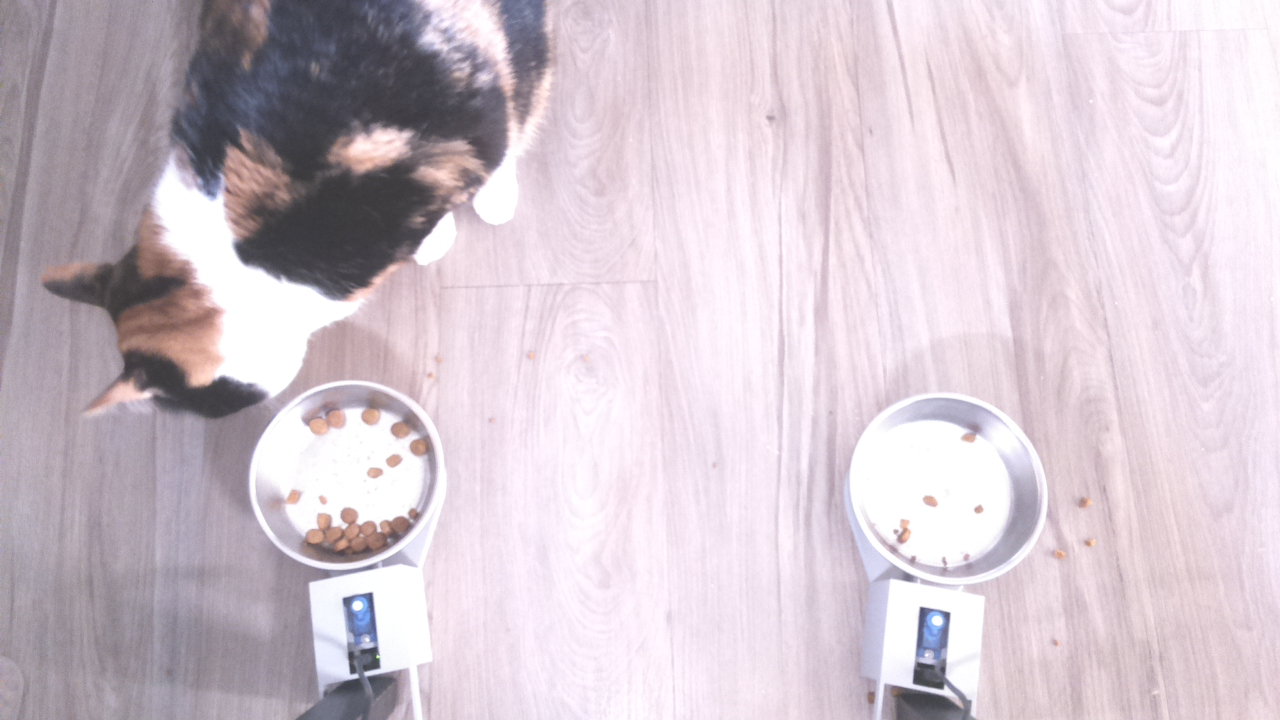bella: (33, 176, 385, 428)
open_bowl: (848, 387, 1055, 590), (249, 379, 454, 569)
